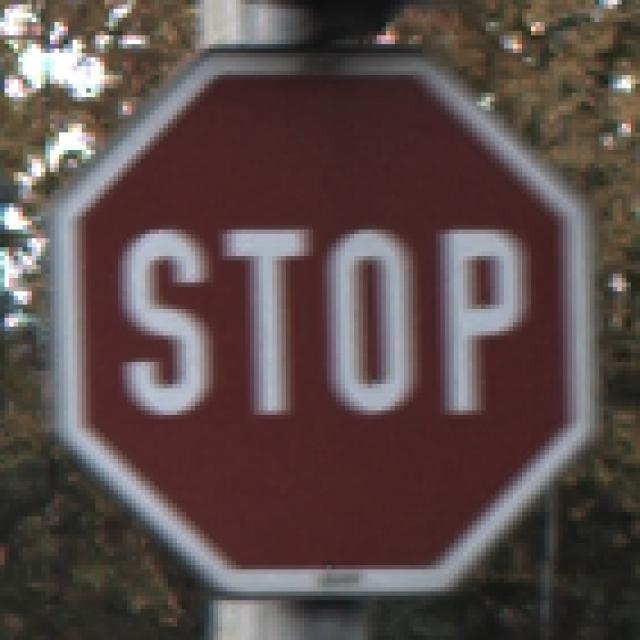STOP: (56, 54, 587, 588)
